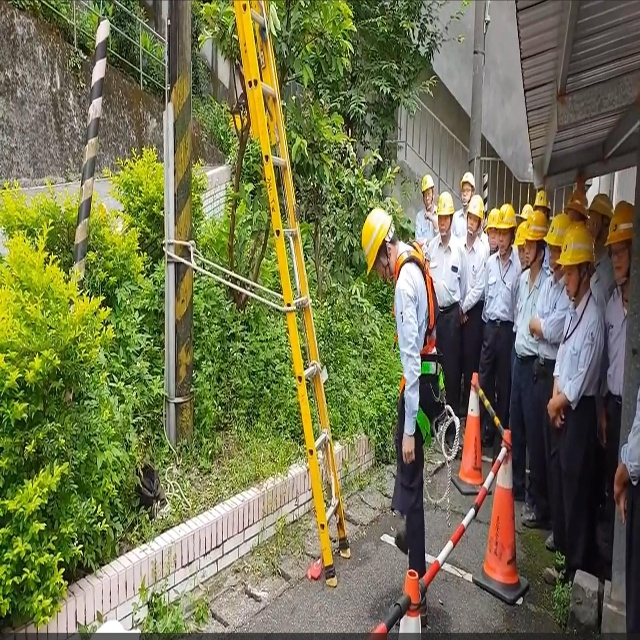Arnes_seguridad: (392, 241, 447, 455)
